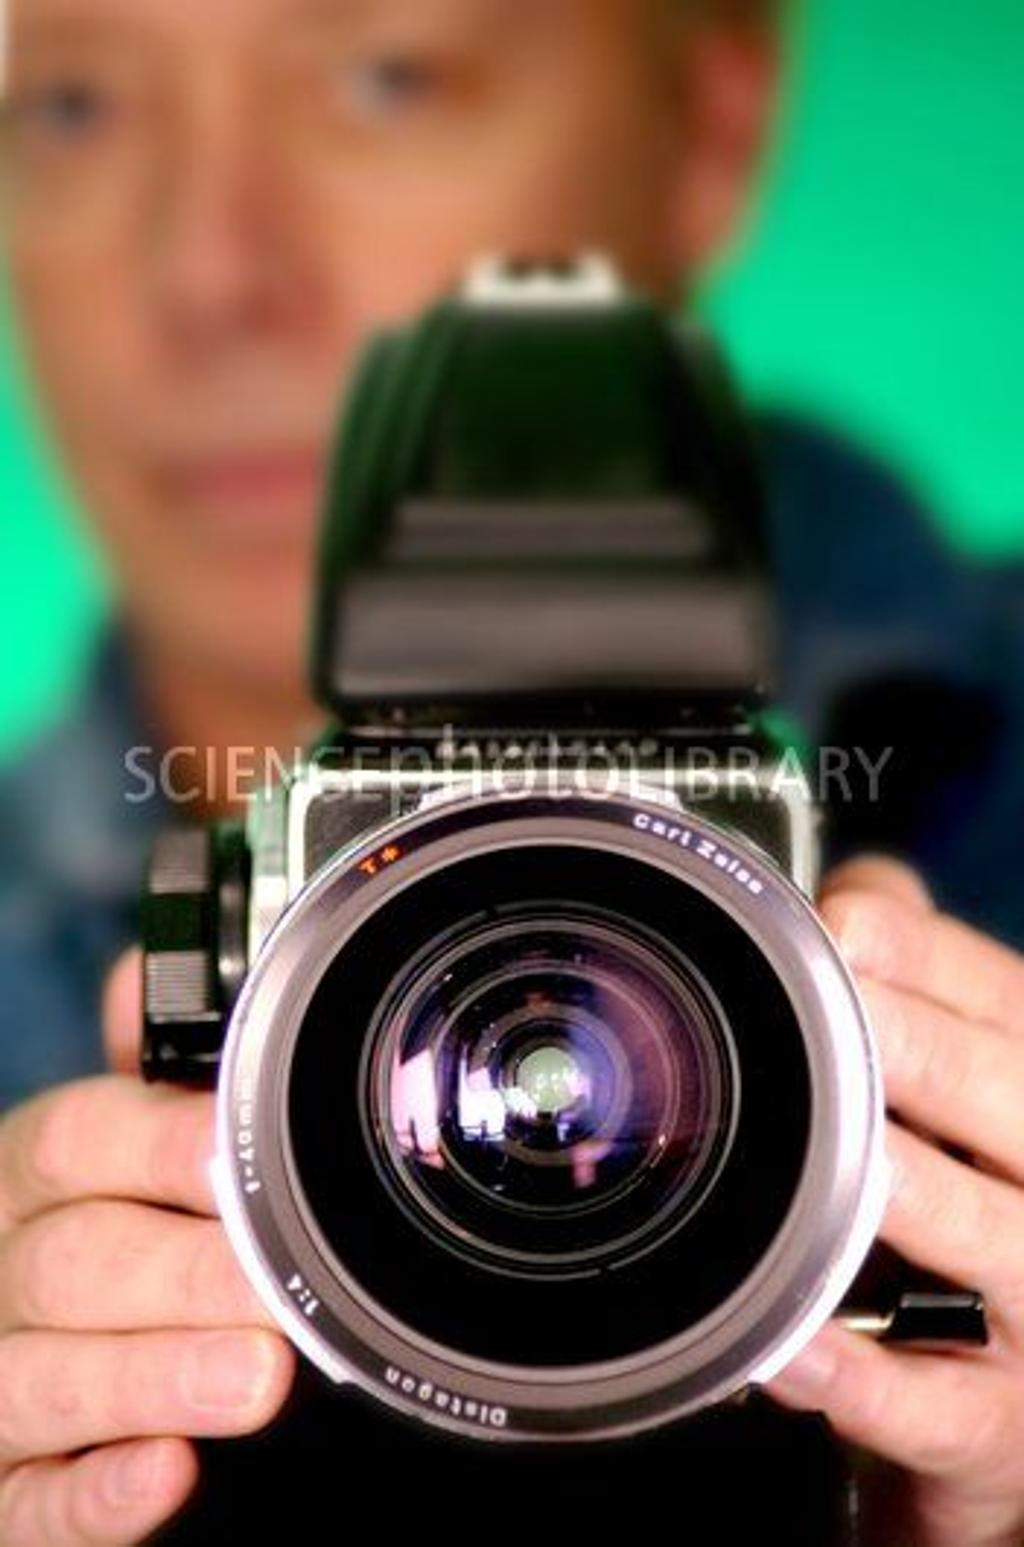face: (21, 9, 667, 655)
